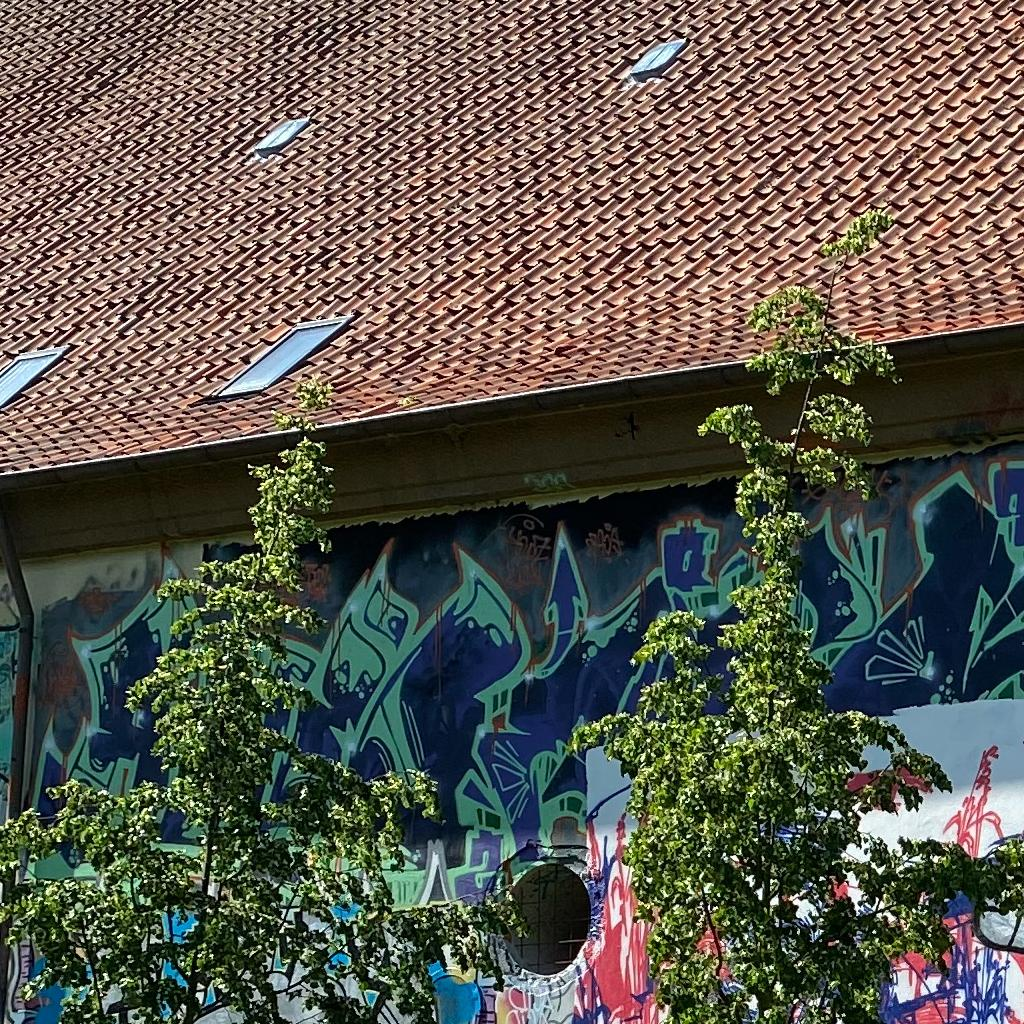tree: (574, 207, 1023, 1023), (1, 374, 530, 1023)
